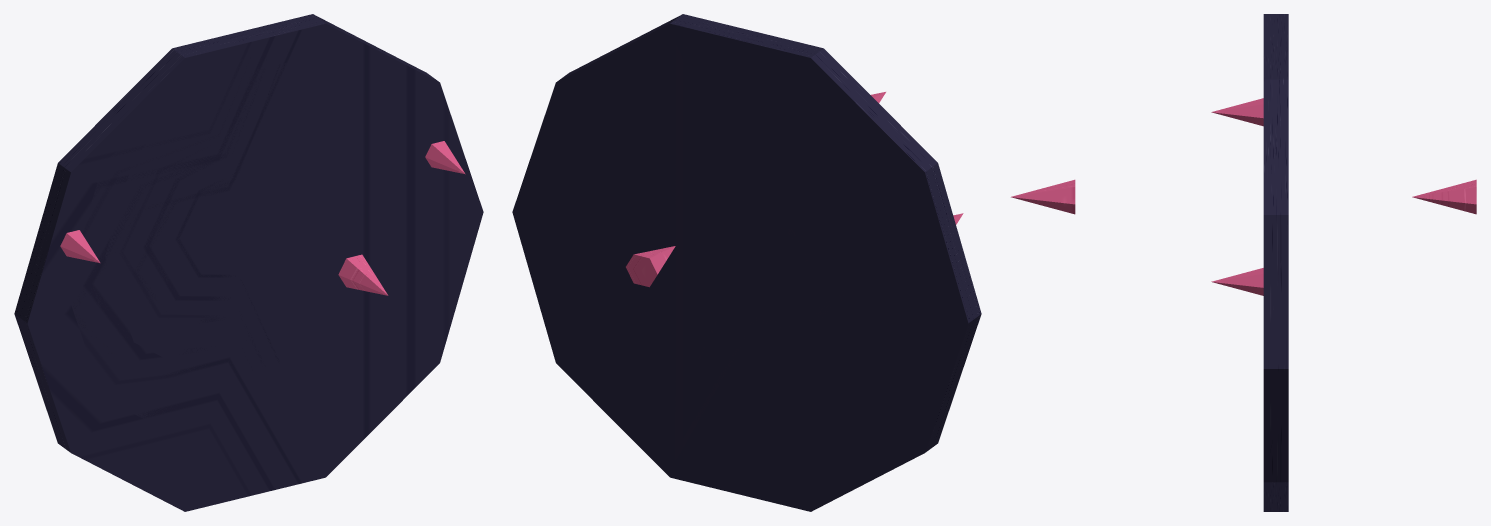
File: ritual_dais_lod1.glb
3 views of the same model, side by side, from view 1: azimuth 30°, elevation 25°; view 2: azimuth 150°, elevation 25°; view 3: azimuth 270°, elevation 25° (orthographic). The views are drawn at different scales.
Visible parts, largest first — view 1: obsidian_0, obsidian_2, obsidian_1, ember_4, ember_3, ember_5; view 2: obsidian_0, obsidian_1, obsidian_2, ember_6; view 3: obsidian_0, ember_4, ember_6, ember_5, ember_3.
Boxes of the visible parts, left/top/right/bottom form: obsidian_0: left=14, top=14, right=483, bottom=511; obsidian_2: left=105, top=59, right=390, bottom=373; obsidian_1: left=66, top=48, right=444, bottom=433; ember_4: left=338, top=254, right=388, bottom=295; ember_3: left=425, top=141, right=465, bottom=174; ember_5: left=60, top=230, right=100, bottom=263; obsidian_0: left=512, top=14, right=981, bottom=511; obsidian_1: left=551, top=41, right=929, bottom=446; obsidian_2: left=610, top=59, right=890, bottom=366; ember_6: left=626, top=246, right=675, bottom=287; obsidian_0: left=1263, top=14, right=1288, bottom=511; ember_4: left=1011, top=179, right=1075, bottom=214; ember_6: left=1412, top=179, right=1476, bottom=214; ember_5: left=1211, top=98, right=1263, bottom=126; ember_3: left=1211, top=268, right=1263, bottom=295.
Bounding box in the file's own units: 10 × 9.51 × 9.3.
3 materials, 3 textured.
